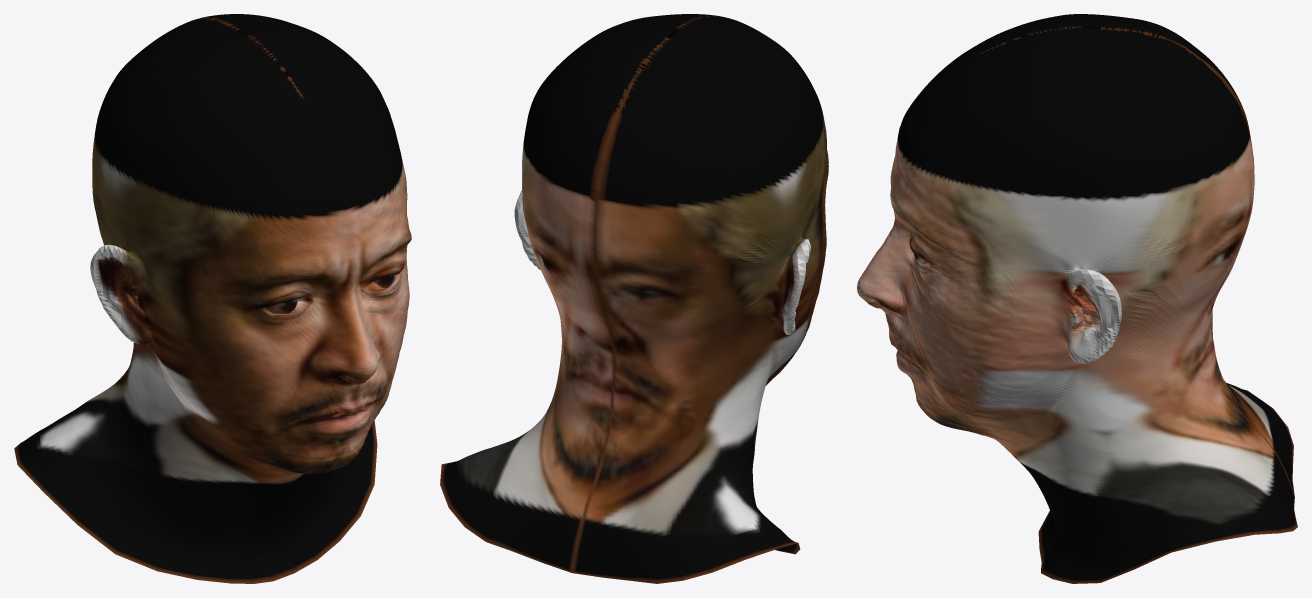
The model's file is mesh_coarse_detail.obj.
3 views of the same model, side by side, from view 1: azimuth 30°, elevation 25°; view 2: azimuth 150°, elevation 25°; view 3: azimuth 270°, elevation 25° (orthographic).
Size of the model in its own units: 0.2157 by 0.3248 by 0.2433.
